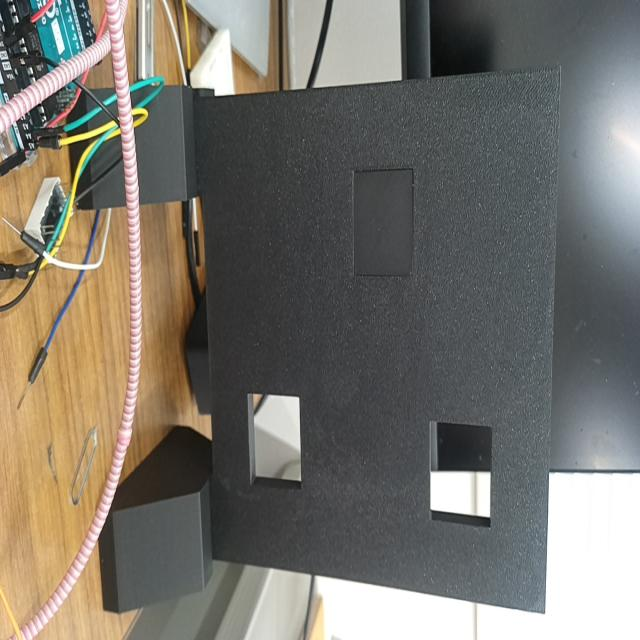Obstacle: (430, 423, 492, 527), (247, 391, 302, 485)
Wall: (194, 68, 560, 611)
